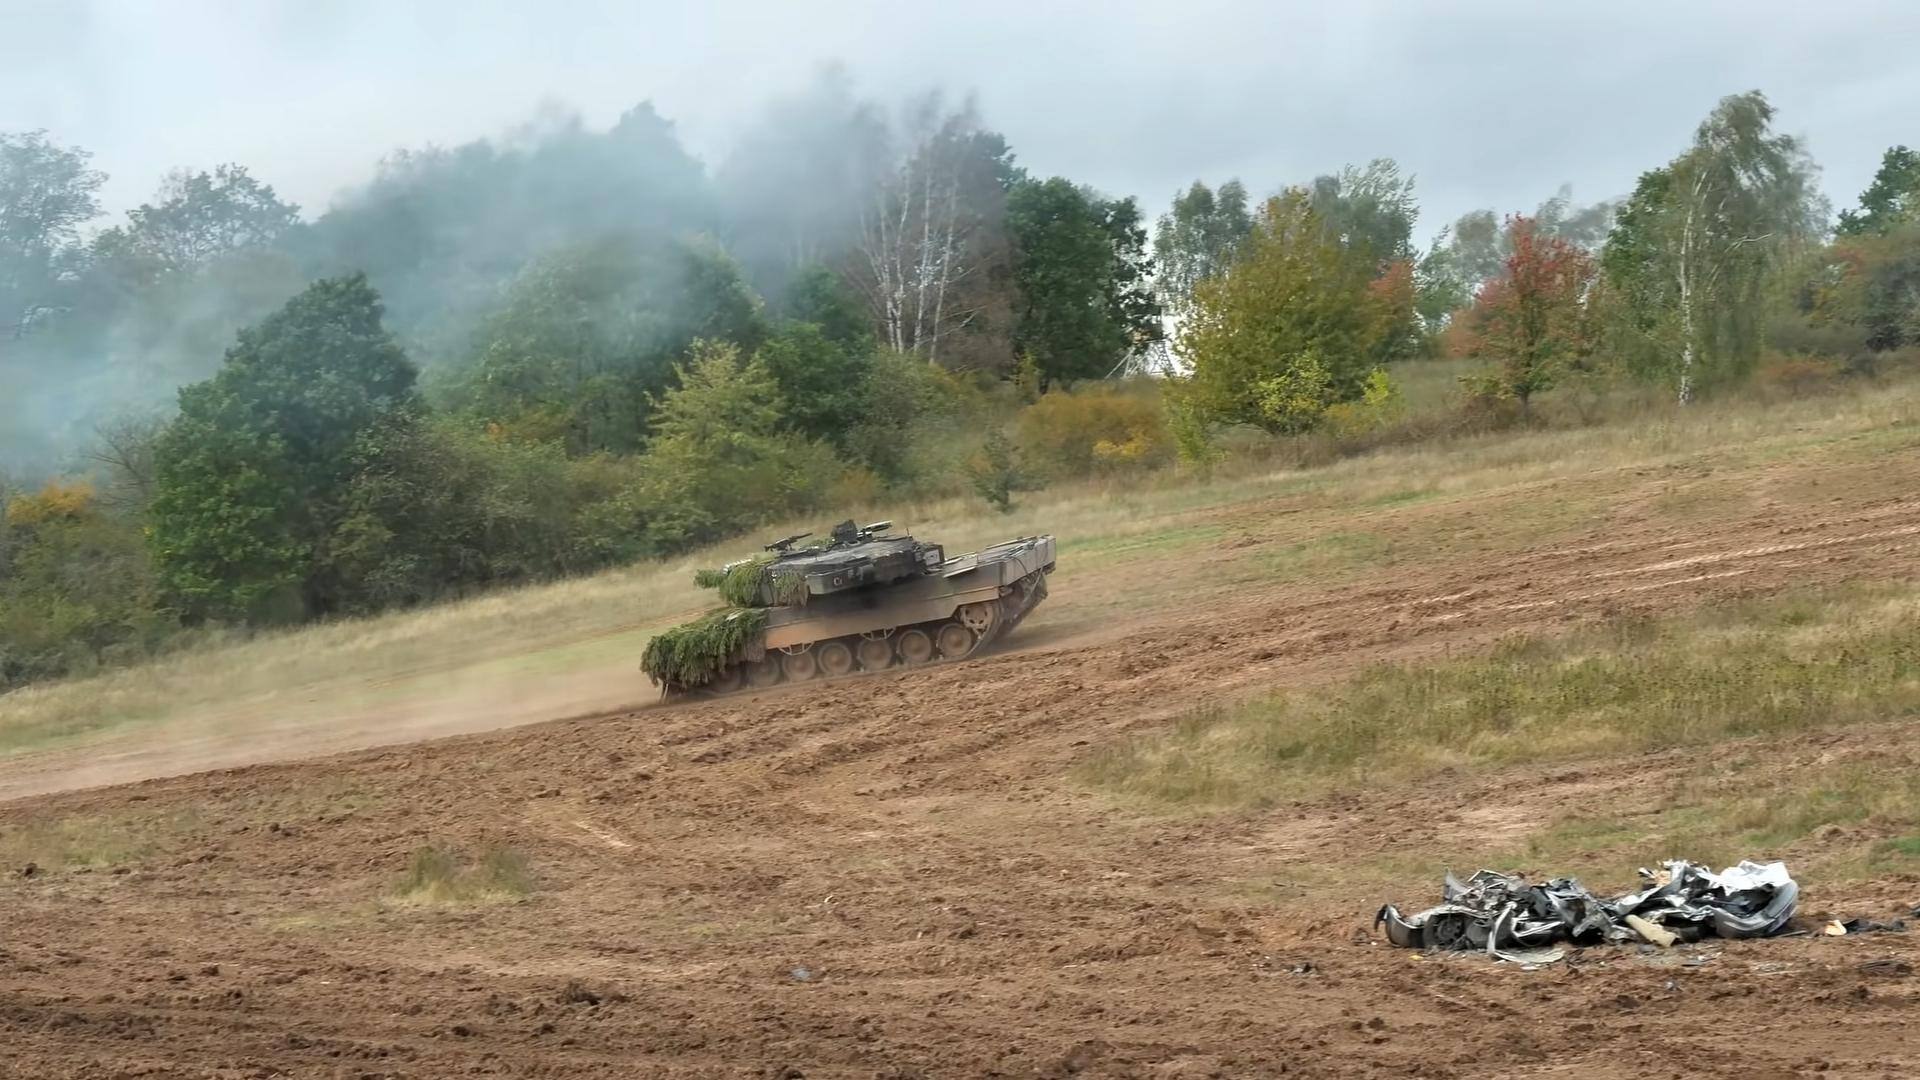tank: (642, 522, 1056, 704)
